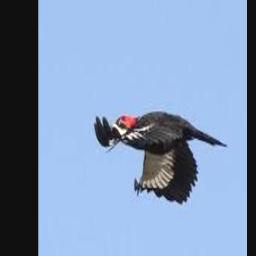Woodpecker: (95, 110, 228, 205)
